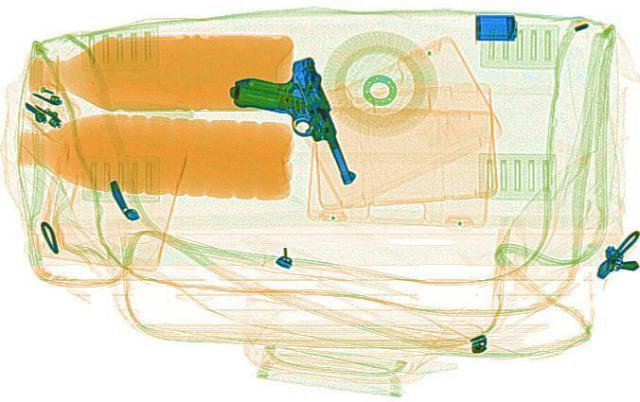Gun: (215, 55, 363, 192)
